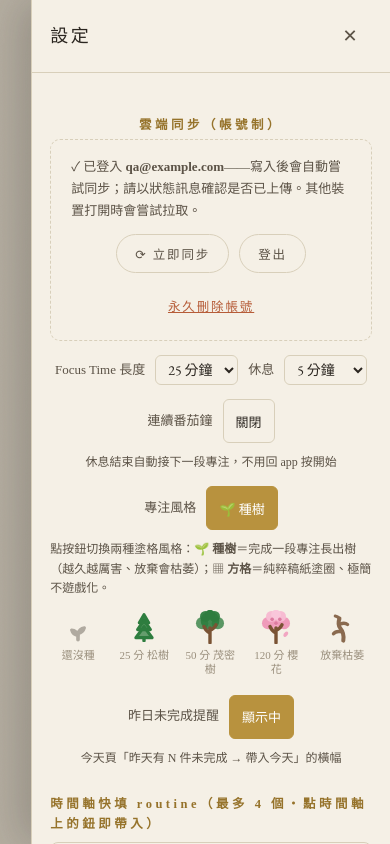
Test: actual Settings backup, owner and sync safety controls › manual rejected sync reports pending local data instead of completion
Click the button "⟳ 立即同步" at (173, 254), box [116,234,229,273]
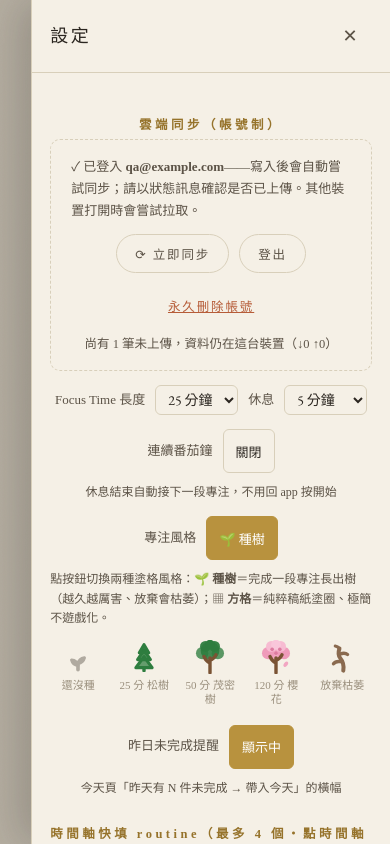
Expected: the text "尚有 1 筆未上傳" is shown, [84,337,338,351]
